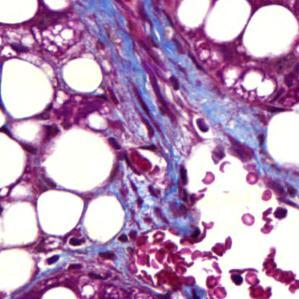steatosis: (35, 190, 85, 239), (60, 54, 104, 97)
